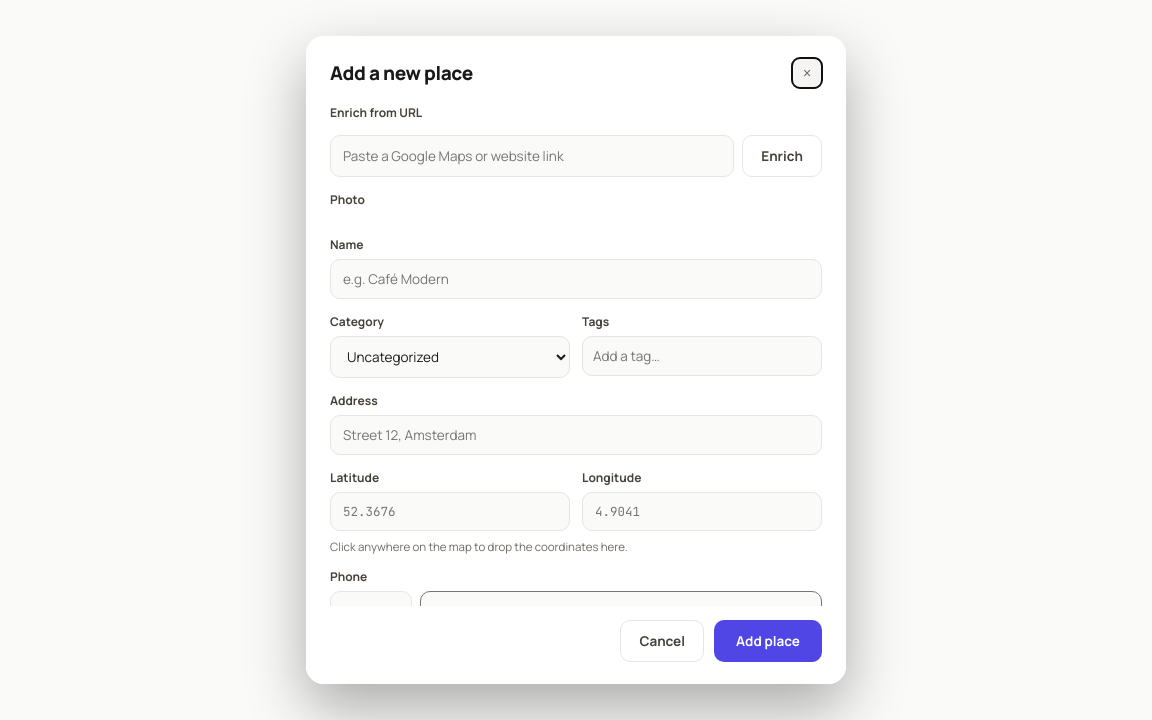
it: PoiFormModal enrich › shows an inline message when enrich fails and keeps the form usable
The width and height of the screenshot is (1152, 720).
Type "https://bad.example" into the field labelled "Enrich from URL" at (532, 156), box [330,135,734,177]
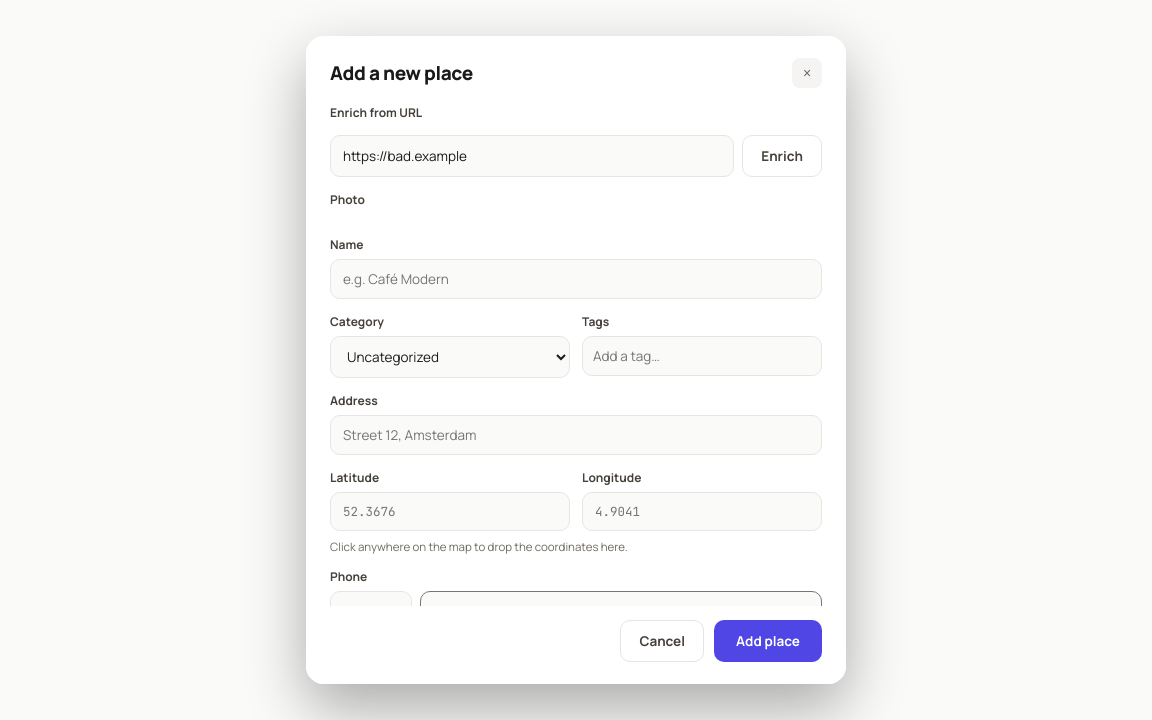
Click the button "Enrich" at (782, 156), box [742,135,822,177]
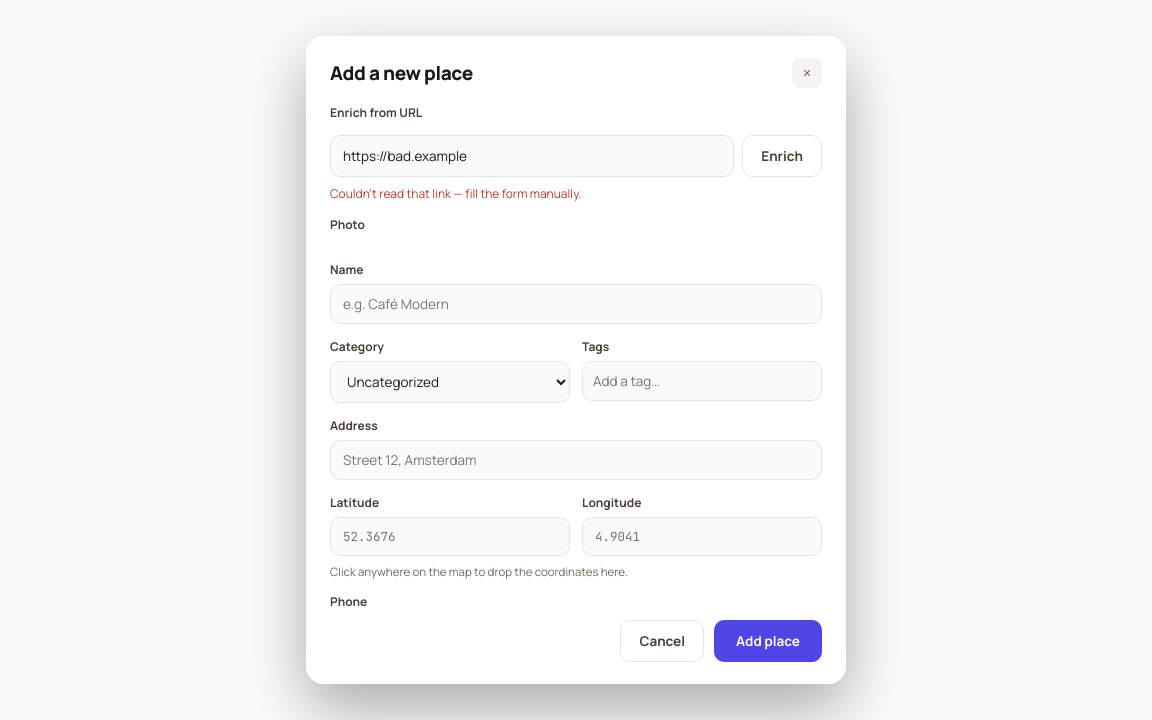
Check: the field labelled "Name" is enabled, box [330,284,822,324]
Check: the text "Couldn't read that link — fill the form manually." is shown, box [330,185,582,202]
